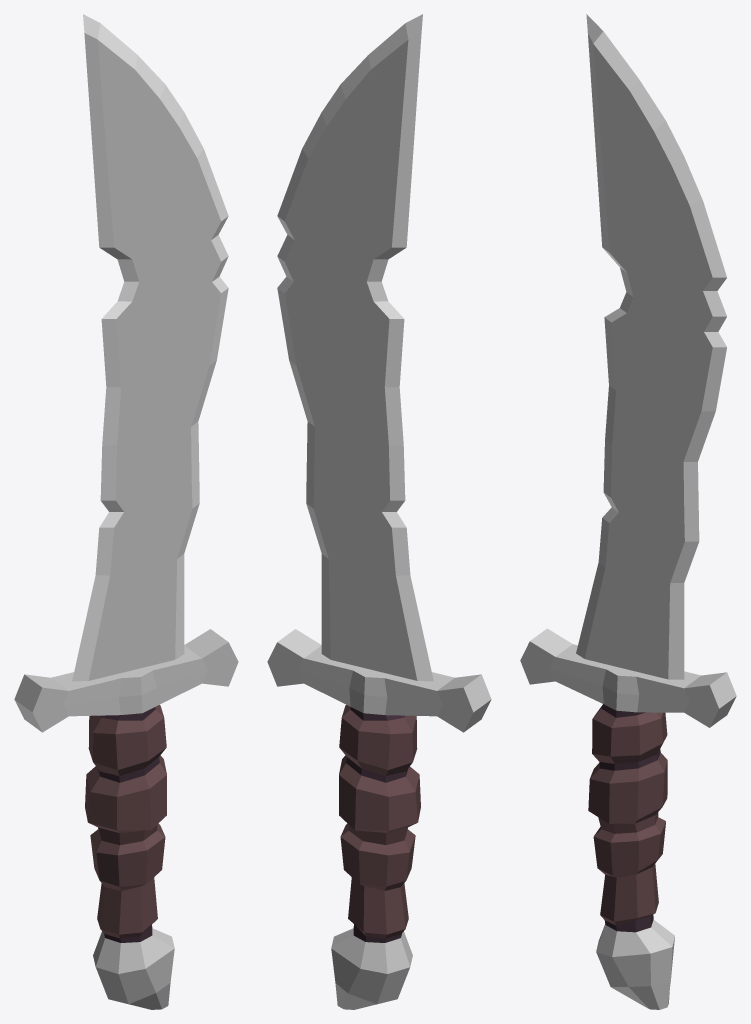
The model's file is q_dagger.glb.
3 views of the same model, side by side, from view 1: azimuth 30°, elevation 25°; view 2: azimuth 150°, elevation 25°; view 3: azimuth 330°, elevation 25° (orthographic). The views are drawn at different scales.
Visible parts, largest first — view 1: Dagger; view 2: Dagger; view 3: Dagger.
Boxes of the visible parts, left/top/right/bottom form: Dagger: left=14, top=14, right=238, bottom=1009; Dagger: left=267, top=14, right=491, bottom=1009; Dagger: left=520, top=14, right=736, bottom=1009.
Size of the model in its own units: 0.1486 by 0.6946 by 0.0555.
